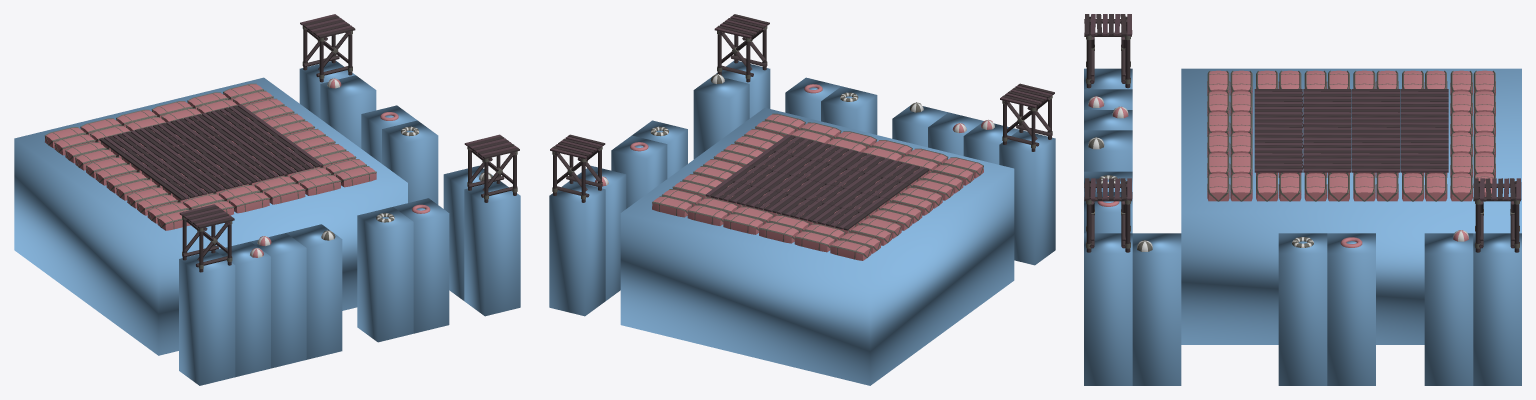
File: StageGroundAssemble_A_GS_C_66.fbx
3 views of the same model, side by side, from view 1: azimuth 30°, elevation 25°; view 2: azimuth 150°, elevation 25°; view 3: azimuth 270°, elevation 25° (orthographic). The views are drawn at different scales.
Parts seen in each view (by area): view 1: stage_sea_gs_foreground, stage_sea_gs_background__9_, stage_sea_gs_background__1_, stage_sea_gs_background__2_, stage_sea_gs_background__10_, stage_sea_gs_background__7_, stage_sea_gs_background__8_, stage_sea_gs_background__11_, stage_sea_gs_background__5_, stage_sea_gs_background__4_, stage_sea_gs_background__3_, stage_a_background_deco_gs_001__1_ (+40 smaller); view 2: stage_sea_gs_foreground, stage_sea_gs_background, stage_sea_gs_background__1_, stage_sea_gs_background__3_, stage_sea_gs_background__6_, stage_sea_gs_background__4_, stage_a_background_deco_gs_001__2_, stage_a_background_deco_gs_001, stage_a_background_deco_gs_001__1_, stage_sea_gs_background__9_, stage_sea_gs_background__7_, stage_sea_gs_background__10_ (+40 smaller); view 3: stage_sea_gs_foreground, stage_sea_gs_background__4_, stage_sea_gs_background__3_, stage_sea_gs_background__5_, stage_sea_gs_background__6_, stage_sea_gs_background, stage_sea_gs_background__2_, stage_a_background_deco_gs_001, stage_a_background_deco_gs_001__2_, stage_a_background_deco_gs_001__1_, stage_sea_gs_background__7_, stage_a_cover_gs_new_002_6 (+40 smaller).
Part boxes in pixels (x1,y1,x2,y2): stage_sea_gs_foreground: [14, 77, 407, 355]; stage_sea_gs_background__9_: [357, 207, 413, 342]; stage_sea_gs_background__1_: [179, 251, 235, 385]; stage_sea_gs_background__2_: [464, 181, 520, 316]; stage_sea_gs_background__10_: [393, 198, 449, 333]; stage_sea_gs_background__7_: [286, 224, 342, 359]; stage_sea_gs_background__8_: [250, 233, 306, 368]; stage_sea_gs_background__11_: [215, 241, 270, 377]; stage_sea_gs_background__5_: [382, 120, 438, 204]; stage_sea_gs_background__4_: [320, 75, 376, 148]; stage_sea_gs_background__3_: [443, 165, 496, 300]; stage_a_background_deco_gs_001__1_: [179, 204, 234, 272]; stage_sea_gs_foreground: [620, 108, 1014, 385]; stage_sea_gs_background: [549, 181, 605, 316]; stage_sea_gs_background__1_: [999, 130, 1055, 265]; stage_sea_gs_background__3_: [693, 76, 749, 159]; stage_sea_gs_background__6_: [611, 135, 667, 208]; stage_sea_gs_background__4_: [573, 165, 626, 300]; stage_a_background_deco_gs_001__2_: [714, 14, 769, 82]; stage_a_background_deco_gs_001: [550, 134, 605, 202]; stage_a_background_deco_gs_001__1_: [1000, 83, 1054, 151]; stage_sea_gs_background__9_: [821, 86, 877, 134]; stage_sea_gs_background__7_: [892, 104, 947, 147]; stage_sea_gs_background__10_: [785, 77, 841, 121]; stage_sea_gs_foreground: [1181, 68, 1521, 344]; stage_sea_gs_background__4_: [1424, 233, 1473, 385]; stage_sea_gs_background__3_: [1132, 233, 1181, 385]; stage_sea_gs_background__5_: [1278, 233, 1327, 385]; stage_sea_gs_background__6_: [1327, 233, 1375, 385]; stage_sea_gs_background: [1473, 233, 1521, 385]; stage_sea_gs_background__2_: [1084, 233, 1132, 385]; stage_a_background_deco_gs_001: [1473, 178, 1521, 252]; stage_a_background_deco_gs_001__2_: [1084, 178, 1132, 252]; stage_a_background_deco_gs_001__1_: [1084, 14, 1132, 88]; stage_sea_gs_background__7_: [1084, 130, 1132, 171]; stage_a_cover_gs_new_002_6: [1207, 173, 1252, 201].
Bounding box in the file's own units: 3600 × 1699 × 3600.
Materials: 1 (1 with a texture image).
